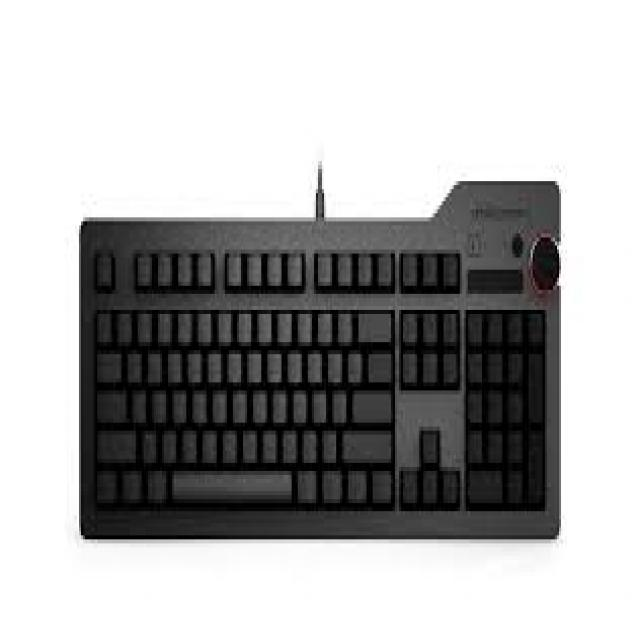others: (71, 161, 573, 547)
